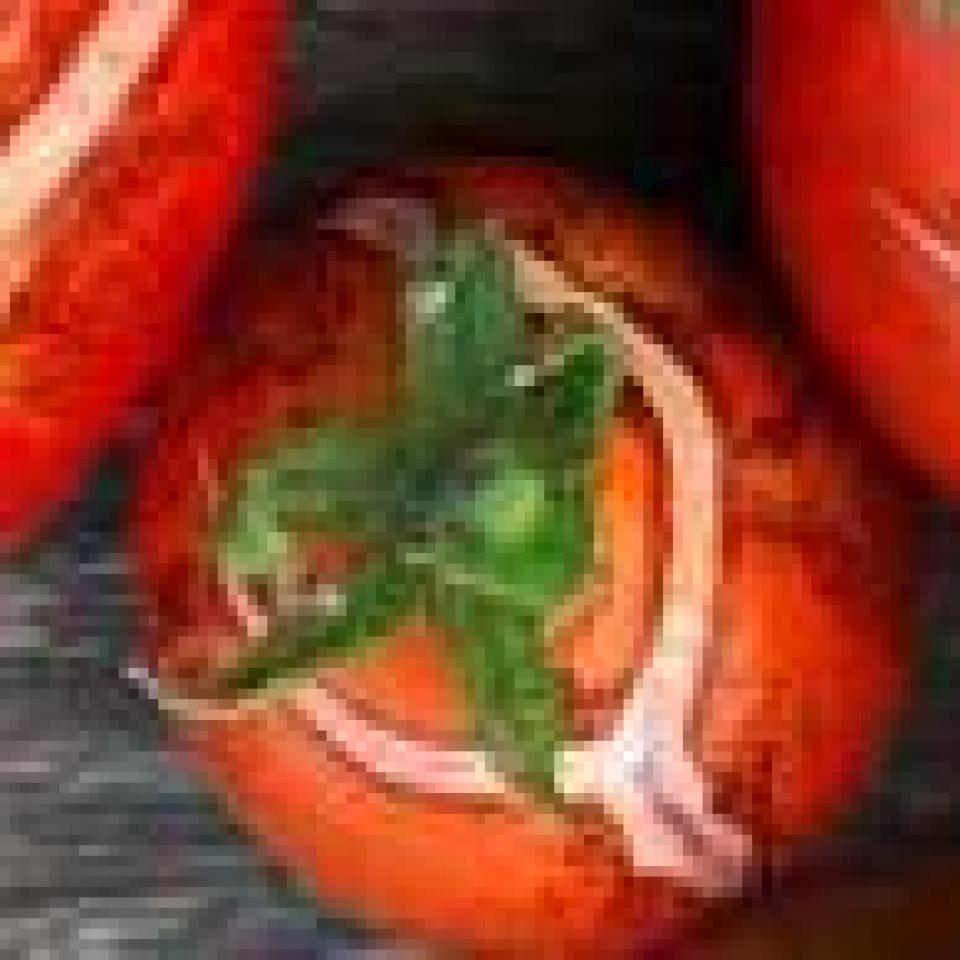Cracking: (310, 158, 784, 905), (154, 359, 600, 877), (0, 0, 188, 209), (859, 172, 950, 316)
